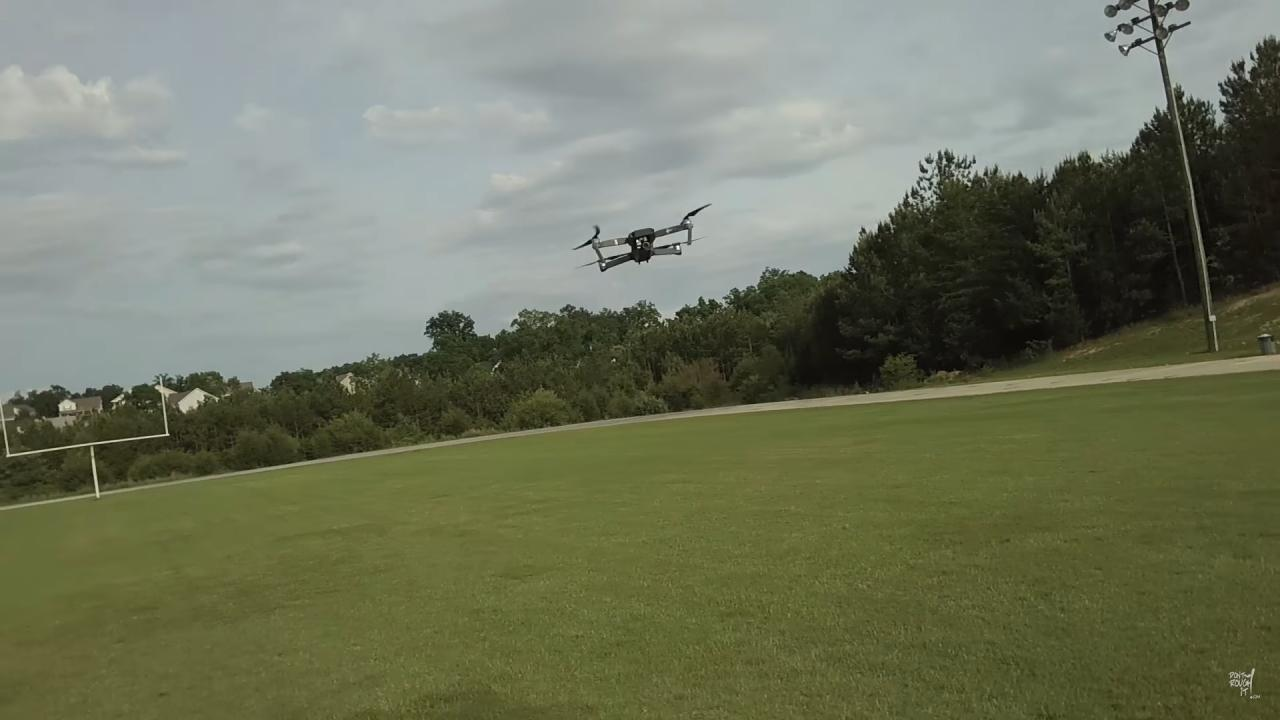Drone: (566, 192, 726, 286)
